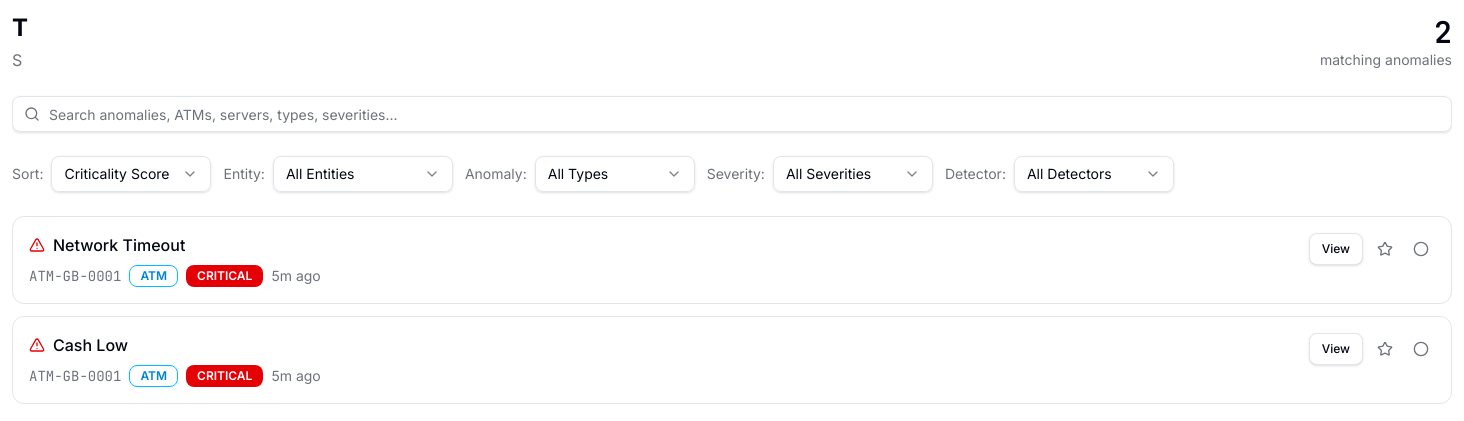
Test: AnomalyListPage filters › star keeps other anomalies unchanged
This screenshot has width=1464, height=421.
Expected: the heading "Cash Low" is shown, [53,333,128,357]
Click the button named "Star anomaly" in the row of "Network Timeout": [1385, 249] box [1371,235,1399,263]
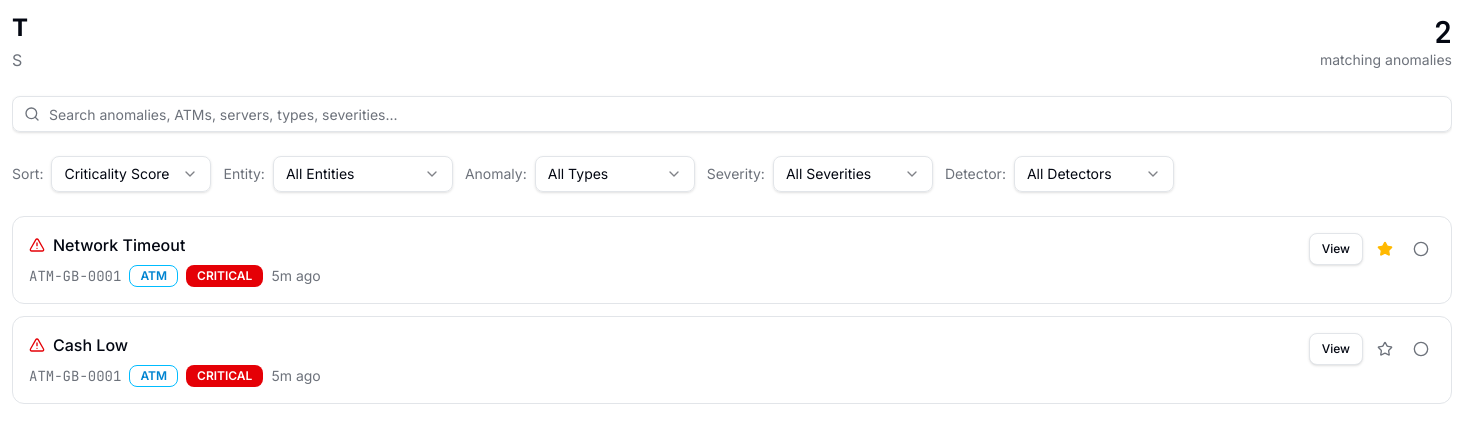
Expected: the heading "Cash Low" is shown, [53,333,128,357]
Expected: the button named "Unstar anomaly" is shown, [1371,235,1399,263]
